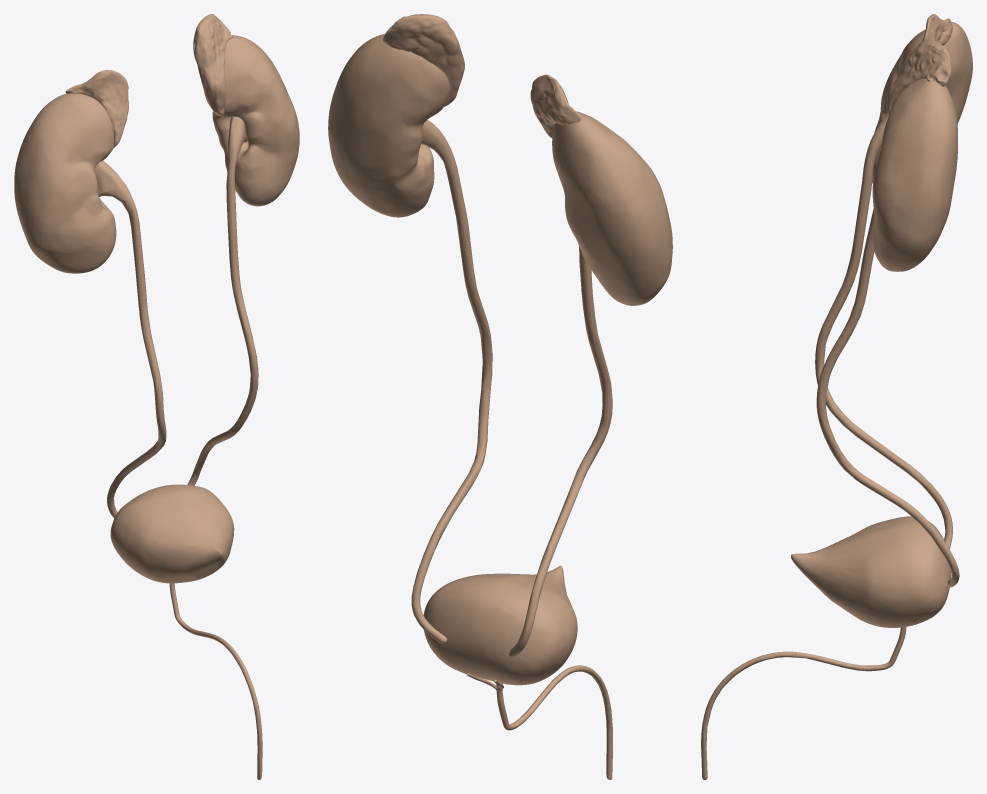
The model's file is urinary.glb.
3 views of the same model, side by side, from view 1: azimuth 30°, elevation 25°; view 2: azimuth 150°, elevation 25°; view 3: azimuth 270°, elevation 25° (orthographic). The views are drawn at different scales.
Visible parts, largest first — view 1: FMA7204, FMA15900, FMA7205, FMA15571, FMA15572, FMA15630, FMA15629, FMA19667; view 2: FMA7205, FMA7204, FMA15900, FMA15572, FMA15571, FMA15630, FMA19667, FMA15629; view 3: FMA7205, FMA15900, FMA15571, FMA15572, FMA7204, FMA15630, FMA19667, FMA15629.
Part boxes in pixels (<box>): FMA7204: <box>14,93,116,273</box>; FMA15900: <box>110,484,234,583</box>; FMA7205: <box>204,35,299,206</box>; FMA15571: <box>94,160,166,518</box>; FMA15572: <box>187,116,258,485</box>; FMA15630: <box>193,14,232,115</box>; FMA15629: <box>65,70,128,147</box>; FMA19667: <box>169,583,262,779</box>; FMA7205: <box>328,34,450,217</box>; FMA7204: <box>552,111,672,305</box>; FMA15900: <box>423,565,577,685</box>; FMA15572: <box>411,119,492,643</box>; FMA15571: <box>509,246,612,656</box>; FMA15630: <box>382,14,464,106</box>; FMA19667: <box>466,665,612,779</box>; FMA15629: <box>530,74,581,138</box>; FMA7205: <box>872,78,957,271</box>; FMA15900: <box>791,516,951,627</box>; FMA15571: <box>815,113,952,549</box>; FMA15572: <box>816,209,959,587</box>; FMA7204: <box>872,22,972,183</box>; FMA15630: <box>887,39,951,114</box>; FMA19667: <box>701,627,906,779</box>; FMA15629: <box>922,14,952,45</box>.
Bounding box in the file's own units: 0.1807 × 0.4349 × 0.1402.
